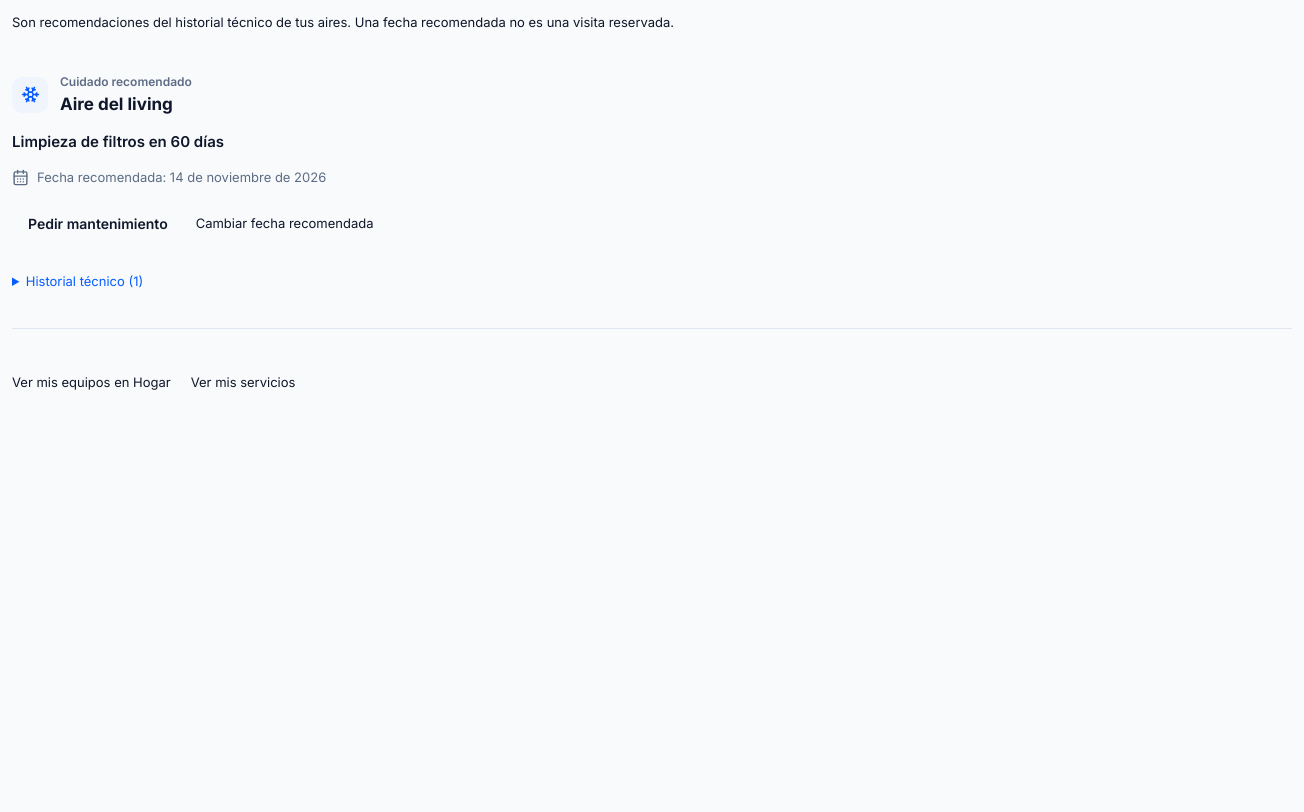
Test: customer maintenance › defers with the current version and preserves the selected date after failure
Click the button "Cambiar fecha recomendada" at [285, 224], box left=196, top=202, right=374, bottom=246
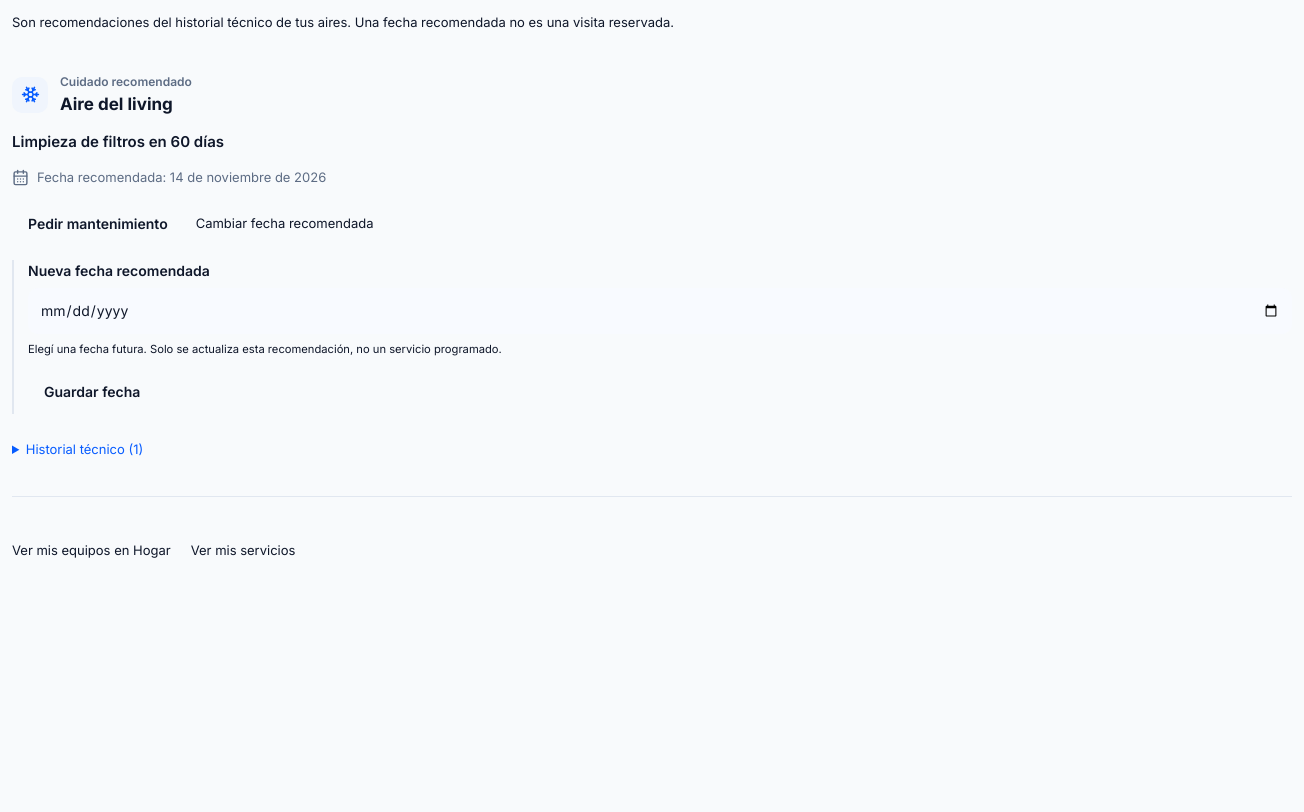
Type "2099-11-20" into the date field labelled "Nueva fecha recomendada" at [660, 311], box left=28, top=288, right=1292, bottom=334
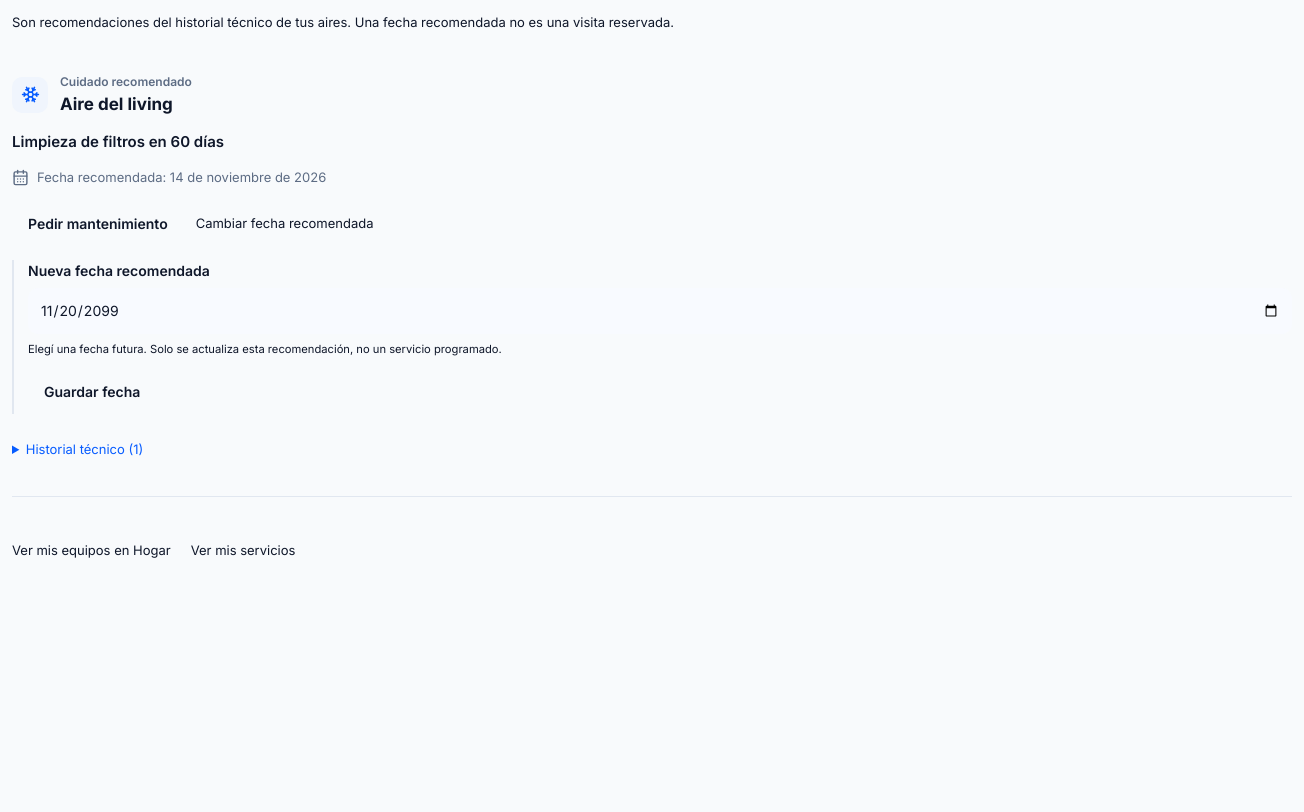
Click the button "Guardar fecha" at [92, 392], box left=28, top=370, right=156, bottom=414
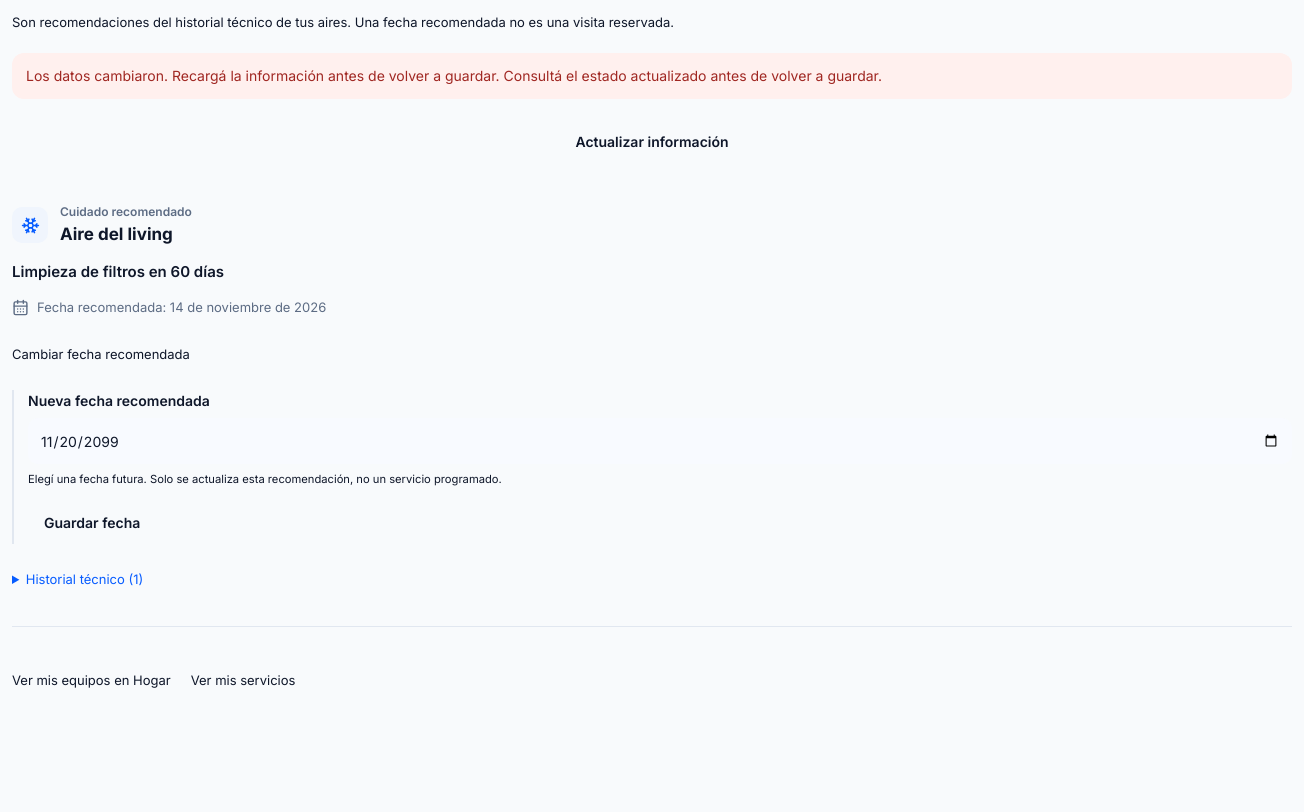
Expected: the message is shown, left=12, top=53, right=1292, bottom=99
Expected: the button "Actualizar información" is shown, left=12, top=119, right=1292, bottom=163
